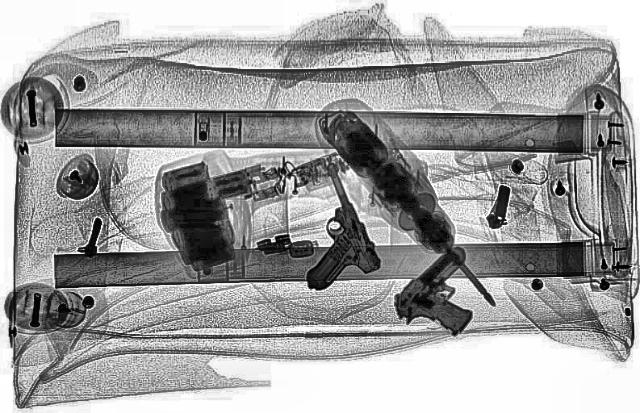Gun: (256, 162, 390, 290), (375, 243, 523, 339)
